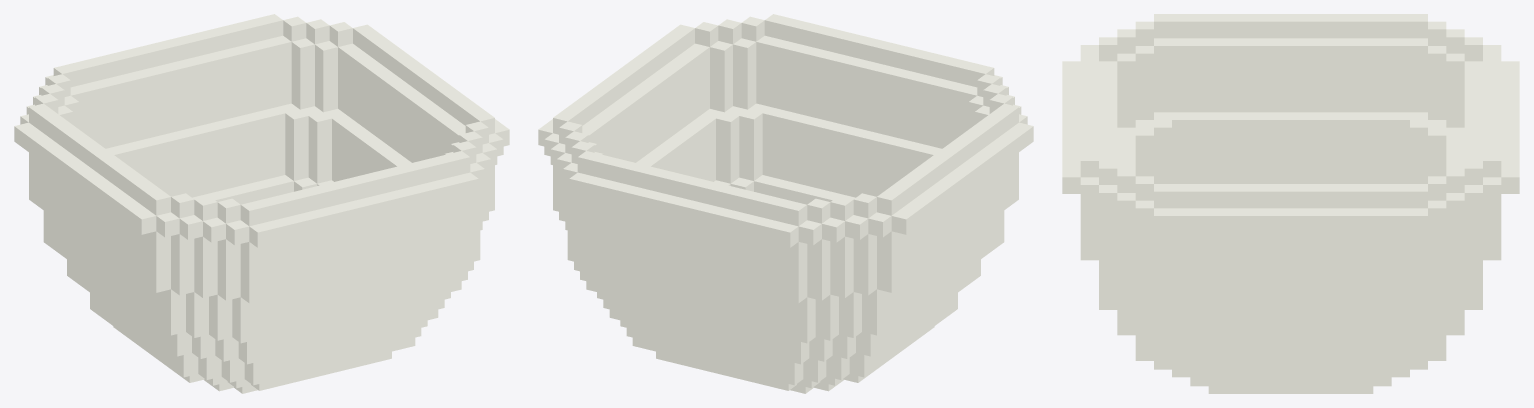
The picture shows the model from 3 angles, left to right: view 1: azimuth 30°, elevation 25°; view 2: azimuth 150°, elevation 25°; view 3: azimuth 270°, elevation 25°; orthographic projection. The views are drawn at different scales.
Parts seen in each view (by area): view 1: Object; view 2: Object; view 3: Object.
Boxes of the visible parts, left/top/right/bottom form: Object: left=14, top=14, right=509, bottom=393; Object: left=538, top=14, right=1033, bottom=393; Object: left=1062, top=14, right=1519, bottom=393.
Bounding box in the file's own units: 25 × 15 × 25.
Materials: 1 (1 with a texture image).
